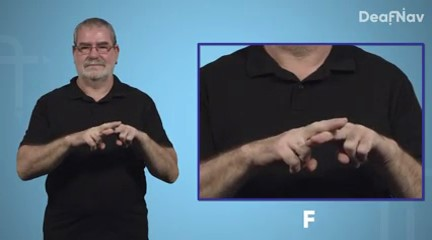F: (258, 113, 388, 185), (76, 118, 141, 160)
